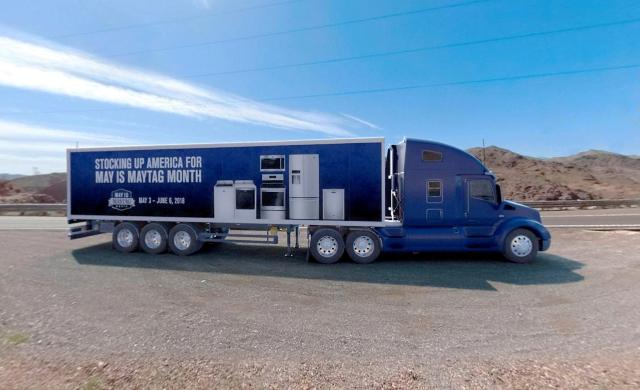truck: (61, 136, 569, 270)
